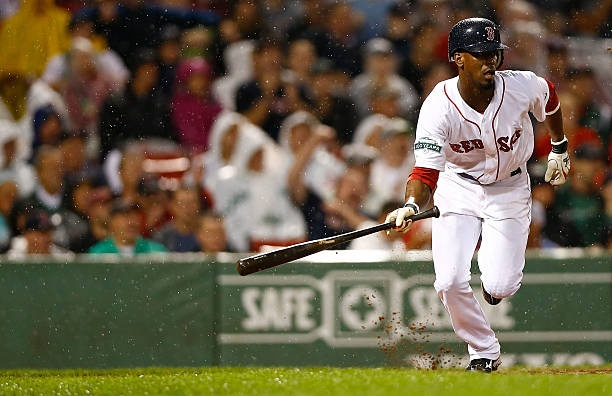bita: (238, 208, 438, 275)
